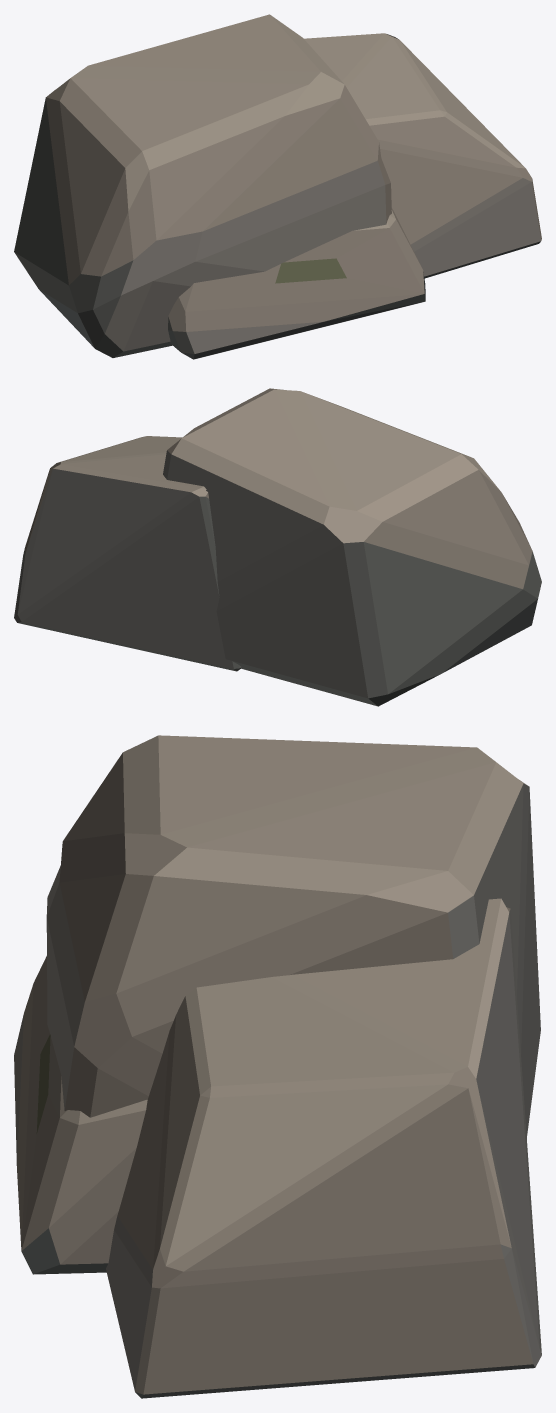
The model's file is verdant-cliff-toe.glb.
3 renders of one model, top to bottom at view 1: azimuth 30°, elevation 25°; view 2: azimuth 150°, elevation 25°; view 3: azimuth 270°, elevation 25°, orthographic. The views are drawn at different scales.
Parts seen in each view (by area): view 1: verdant-cliff-toe; view 2: verdant-cliff-toe; view 3: verdant-cliff-toe.
Part boxes in pixels (x1,y1,x2,y2): verdant-cliff-toe: [14, 14, 541, 359]; verdant-cliff-toe: [14, 388, 541, 706]; verdant-cliff-toe: [14, 735, 541, 1398].
Size of the model in its own units: 3.42 by 1.49 by 1.9.
1 material, 1 textured.
